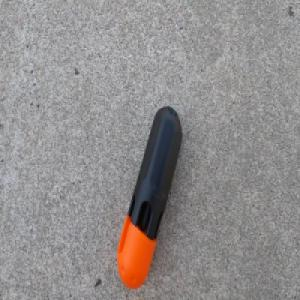PlasticPart: (116, 104, 183, 290)
